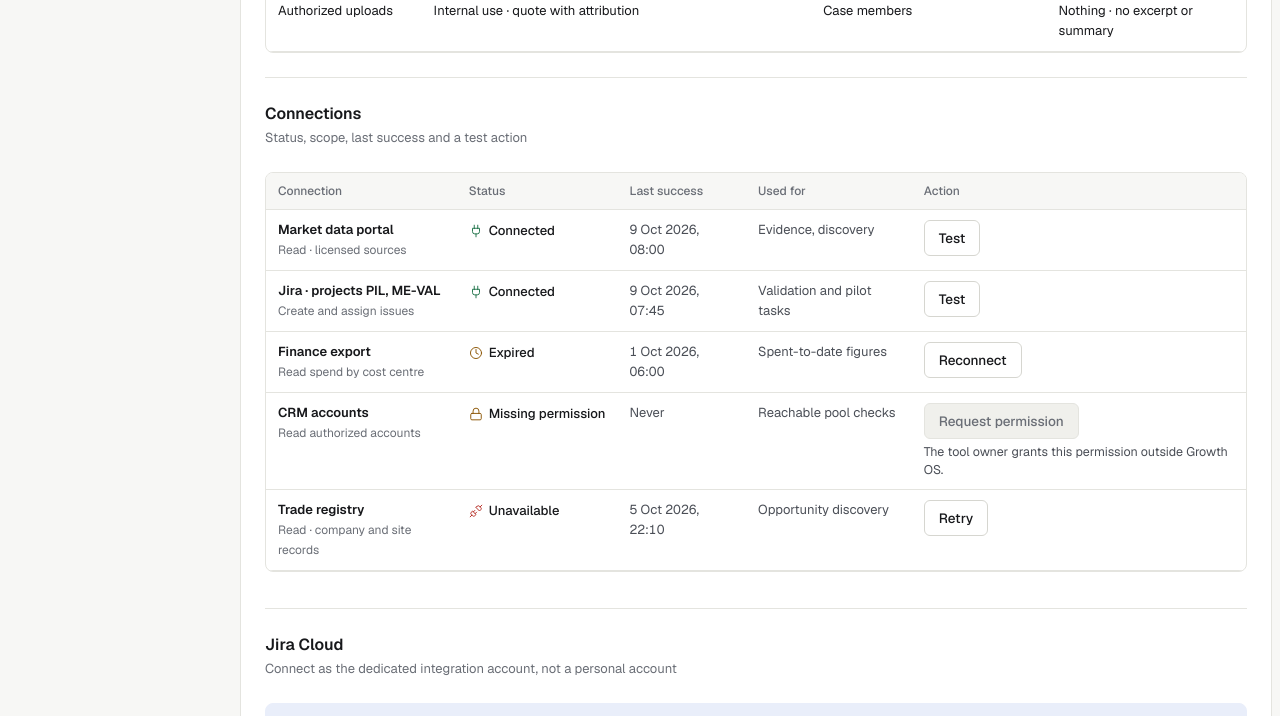
Test case: S14 Administration › shows the authority gap, the no-approval banner and connection states (step 29)
(page scrolled)
Expected: the text "Connected" next to "Market data portal" is shown, 489,222 -> 555,239
Expected: the text "Expired" is shown, 489,343 -> 535,363
Click the button with aria-label "Reconnect Finance export".
click(973, 360)  # box 924,342 -> 1022,378
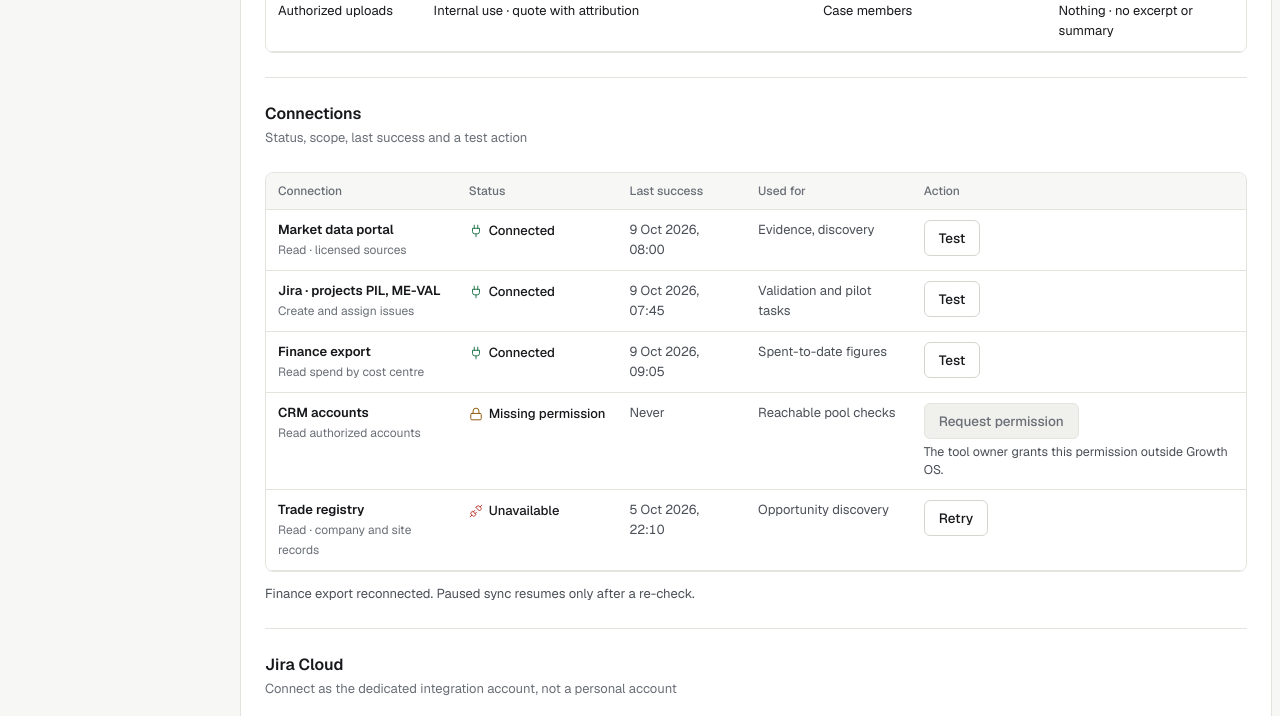
Now the text "Finance export reconnected. Paused sync resumes only after a re-check." is shown, box 265,585 -> 695,602
